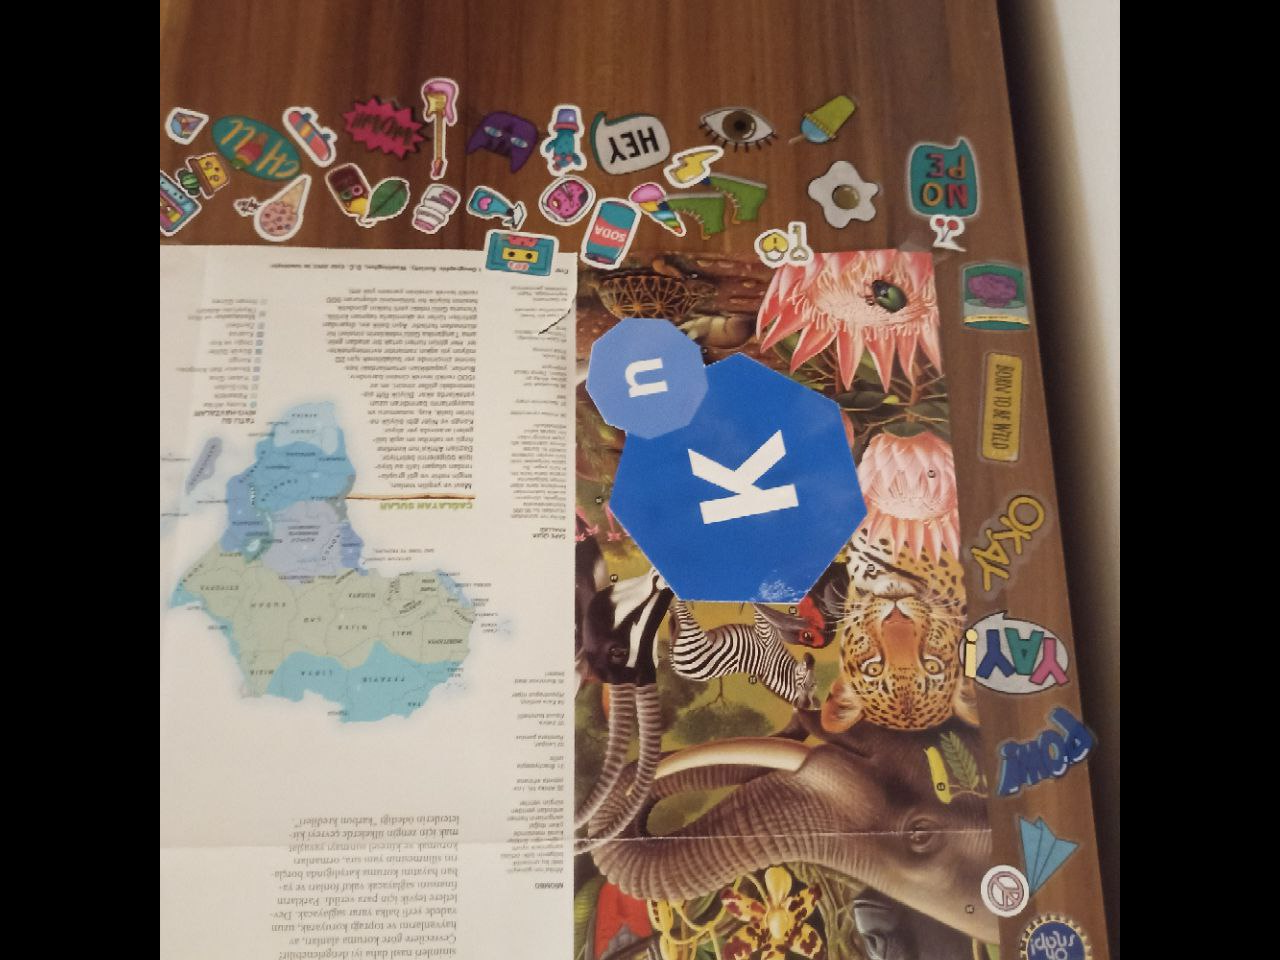knative: (586, 318, 865, 602)
